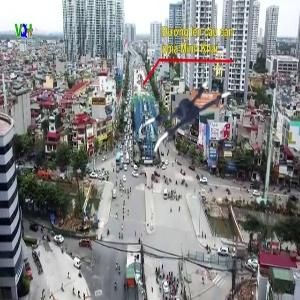drone: (143, 75, 239, 171)
